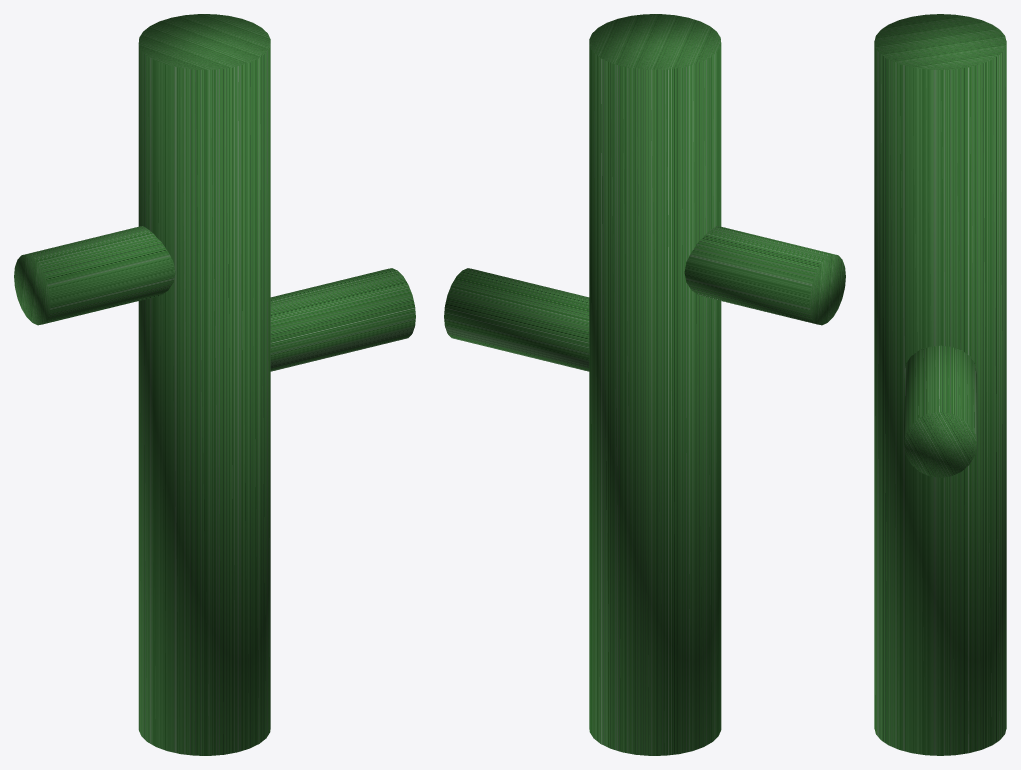
The model's file is cactus_tall.glb.
3 renders of one model, left to right at view 1: azimuth 30°, elevation 25°; view 2: azimuth 150°, elevation 25°; view 3: azimuth 270°, elevation 25°, orthographic.
Parts seen in each view (by area): view 1: Cylinder, Cylinder.002, Cylinder.001; view 2: Cylinder, Cylinder.002, Cylinder.001; view 3: Cylinder, Cylinder.001.
Part boxes in pixels (x1=…): Cylinder: x1=138, y1=14, x2=270, y2=755; Cylinder.002: x1=14, y1=226, x2=175, y2=325; Cylinder.001: x1=270, y1=268, x2=415, y2=371; Cylinder: x1=589, y1=14, x2=721, y2=755; Cylinder.002: x1=684, y1=226, x2=845, y2=325; Cylinder.001: x1=444, y1=268, x2=589, y2=371; Cylinder: x1=874, y1=14, x2=1006, y2=755; Cylinder.001: x1=904, y1=345, x2=976, y2=477.
Bounding box in the file's own units: 1.78 × 3.2 × 0.56.
1 material, 1 textured.
